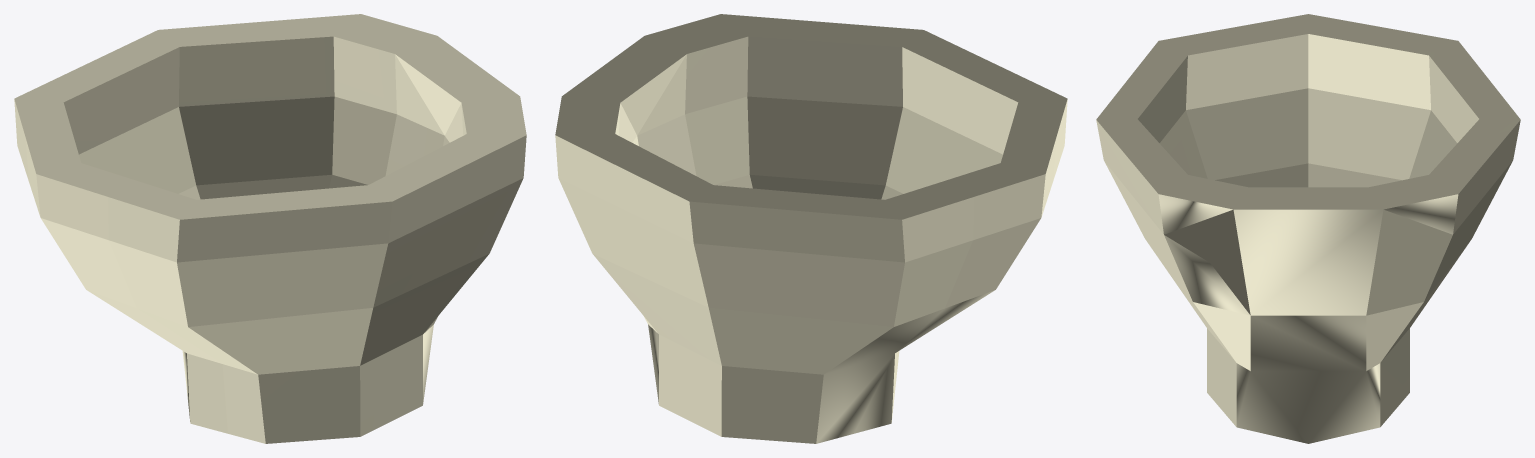
File: obodok.fbx
The picture shows the model from 3 angles, left to right: view 1: azimuth 30°, elevation 25°; view 2: azimuth 150°, elevation 25°; view 3: azimuth 270°, elevation 25°; orthographic projection. The views are drawn at different scales.
Parts seen in each view (by area): view 1: Toilet; view 2: Toilet; view 3: Toilet.
Part boxes in pixels (left/top/right/bottom): Toilet: left=14, top=14, right=526, bottom=443; Toilet: left=555, top=14, right=1067, bottom=443; Toilet: left=1096, top=14, right=1520, bottom=443.
Size of the model in its own units: 95.73 by 59.36 by 87.85.
